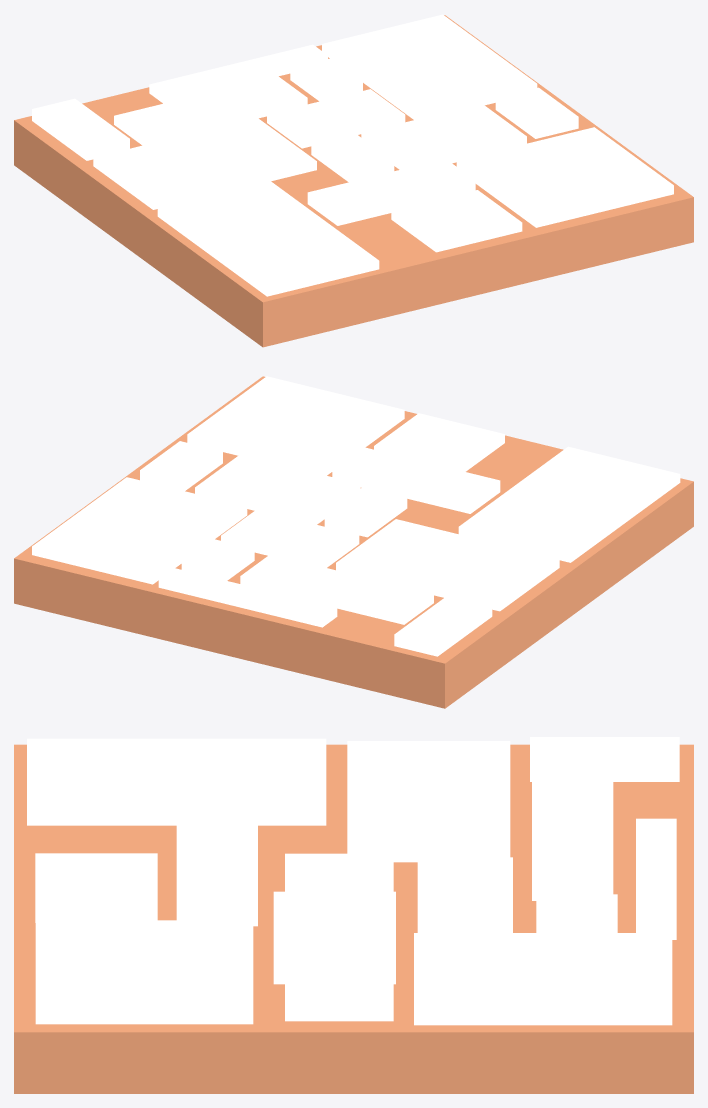
The model's file is tiled_floor.gltf.
3 renders of one model, top to bottom at view 1: azimuth 30°, elevation 25°; view 2: azimuth 150°, elevation 25°; view 3: azimuth 270°, elevation 25°, orthographic. The views are drawn at different scales.
Parts seen in each view (by area): view 1: Box (×15); view 2: Box (×15); view 3: Box (×15).
Part boxes in pixels (left/top/right/bottom): Box (×15): left=14, top=14, right=693, bottom=347; Box (×15): left=14, top=376, right=693, bottom=708; Box (×15): left=14, top=737, right=693, bottom=1093.
Bounding box in the file's own units: 1 × 0.1262 × 1.
